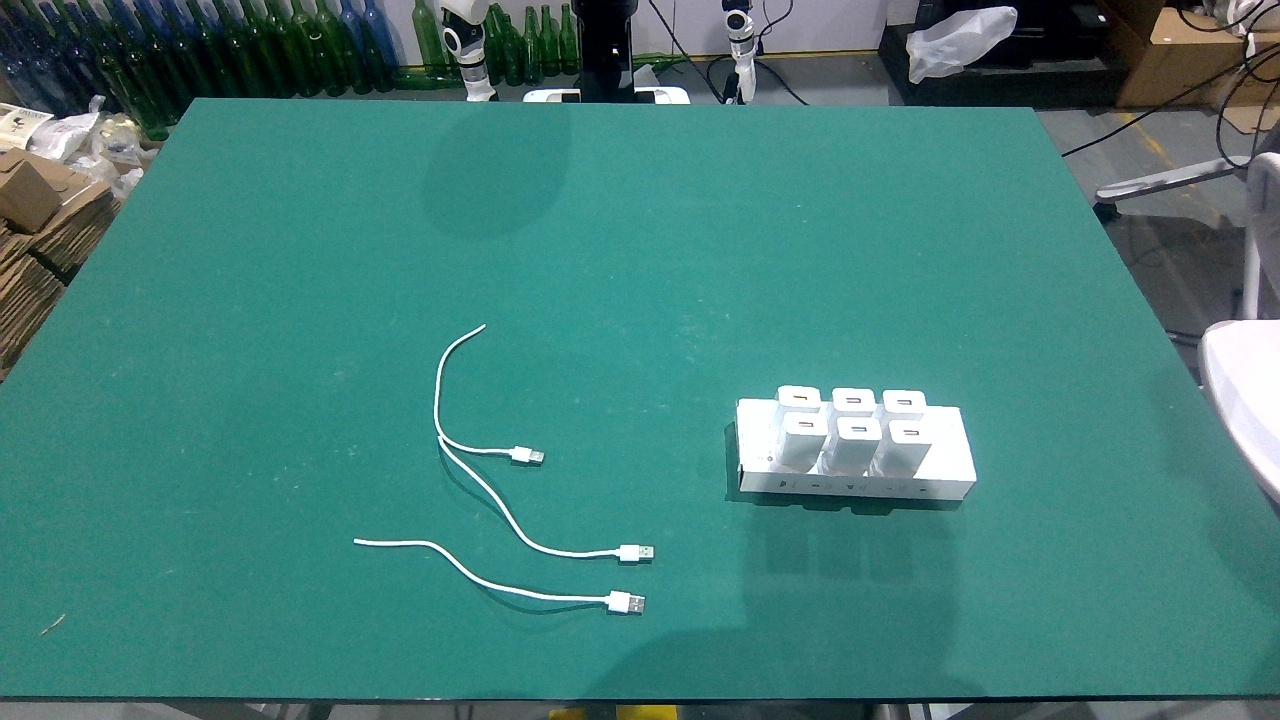usb_a_port: (844, 397, 866, 405), (895, 398, 914, 407), (902, 428, 921, 437), (790, 394, 811, 402), (797, 420, 815, 429), (848, 426, 869, 433)
